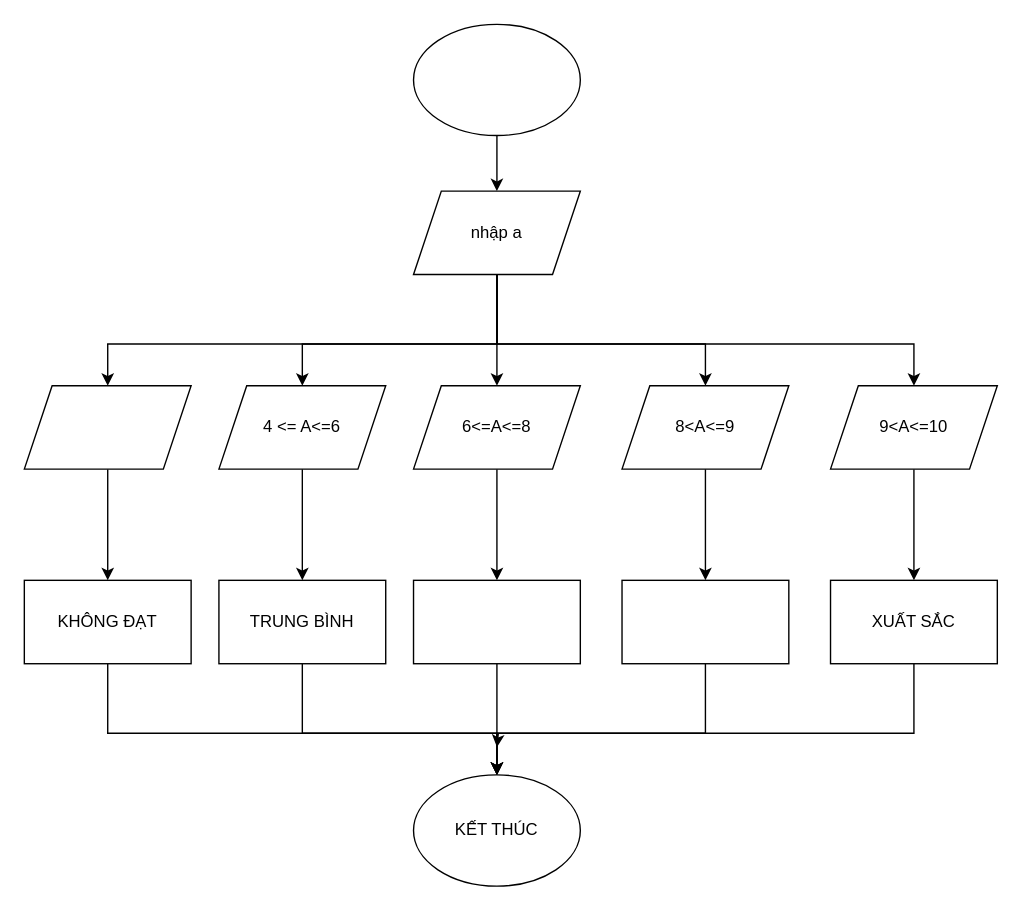
This 1022x910 diagram has some shape labels left out. Each missing label, with the centre of its shape:
a < 4: pixel 107 426
Bắt đầu: pixel 496 79
GIỎI: pixel 705 621
kHÁ: pixel 496 621
